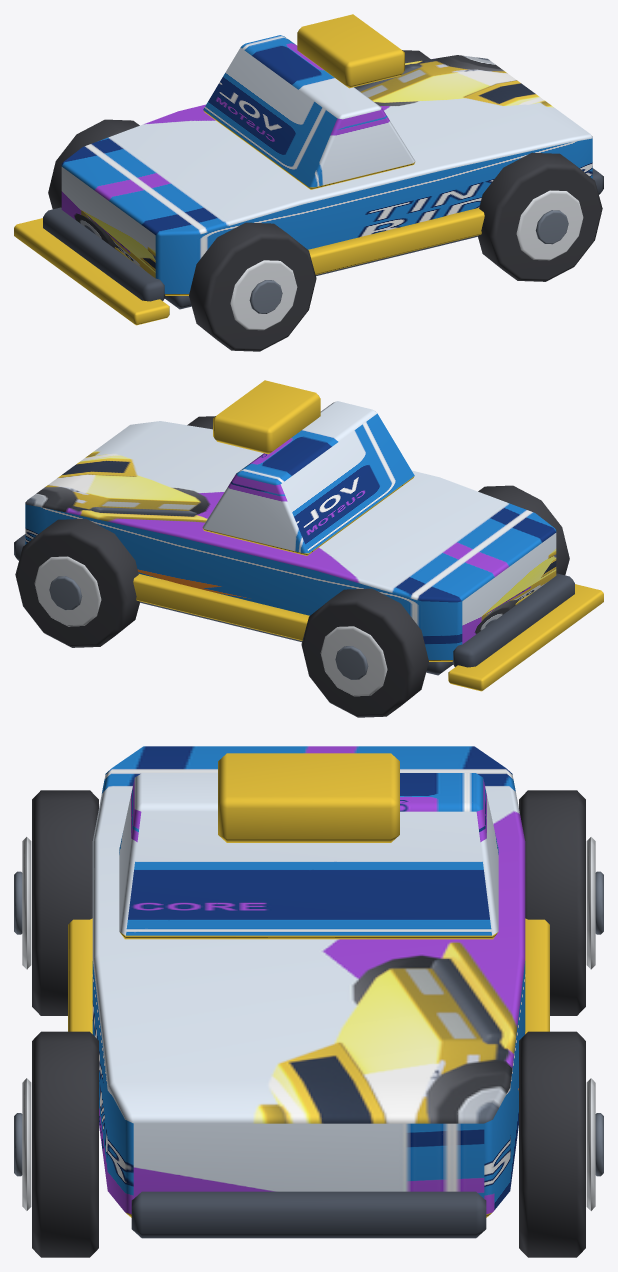
3 views of the same model, one above another, from view 1: azimuth 30°, elevation 25°; view 2: azimuth 150°, elevation 25°; view 3: azimuth 270°, elevation 25° (orthographic). The views are drawn at different scales.
Visible parts, largest first — view 1: FF-03_connected_shell, FF-03_cabin, Tire, Tire.002, custom equipment, custom side guard, custom chin, front bumper, Rim.002, Rim, Tire.001, Hub.002 (+2 smaller); view 2: FF-03_connected_shell, FF-03_cabin, Tire.001, Tire.003, custom equipment, custom side guard.001, custom chin, front bumper, Rim.003, Rim.001, Tire, Hub.003 (+2 smaller); view 3: FF-03_connected_shell, FF-03_cabin, rear bumper, custom equipment, Tire.002, Tire.003, Tire, Tire.001, custom side guard, custom side guard.001, Rim.002, Rim.003 (+2 smaller).
Part boxes in pixels (x1=…): FF-03_connected_shell: x1=61, y1=55, x2=592, y2=295; FF-03_cabin: x1=203, y1=35, x2=415, y2=189; Tire: x1=189, y1=222, x2=316, y2=351; Tire.002: x1=477, y1=152, x2=602, y2=281; custom equipment: x1=297, y1=14, x2=404, y2=88; custom side guard: x1=308, y1=208, x2=484, y2=274; custom chin: x1=14, y1=218, x2=169, y2=325; front bumper: x1=43, y1=207, x2=165, y2=301; Rim.002: x1=516, y1=190, x2=583, y2=260; Rim: x1=230, y1=260, x2=297, y2=330; Tire.001: x1=48, y1=119, x2=139, y2=209; Hub.002: x1=535, y1=210, x2=568, y2=244; FF-03_connected_shell: x1=25, y1=421, x2=556, y2=661; FF-03_cabin: x1=202, y1=401, x2=414, y2=555; Tire.001: x1=301, y1=588, x2=428, y2=717; Tire.003: x1=15, y1=518, x2=140, y2=647; custom equipment: x1=213, y1=380, x2=320, y2=454; custom side guard.001: x1=133, y1=574, x2=309, y2=640; custom chin: x1=448, y1=584, x2=603, y2=691; front bumper: x1=452, y1=573, x2=574, y2=667; Rim.003: x1=34, y1=556, x2=101, y2=626; Rim.001: x1=320, y1=626, x2=387, y2=696; Tire: x1=478, y1=485, x2=569, y2=575; Hub.003: x1=49, y1=576, x2=82, y2=610; FF-03_connected_shell: x1=92, y1=746, x2=525, y2=1217; FF-03_cabin: x1=119, y1=773, x2=498, y2=939; rear bumper: x1=131, y1=1191, x2=486, y2=1238; custom equipment: x1=218, y1=753, x2=399, y2=842; Tire.002: x1=32, y1=1031, x2=98, y2=1257; Tire.003: x1=519, y1=1031, x2=585, y2=1257; Tire: x1=32, y1=790, x2=98, y2=1015; Tire.001: x1=519, y1=790, x2=585, y2=1015; custom side guard: x1=68, y1=918, x2=92, y2=1033; custom side guard.001: x1=525, y1=918, x2=549, y2=1033; Rim.002: x1=22, y1=1078, x2=31, y2=1210; Rim.003: x1=586, y1=1078, x2=595, y2=1210.
Size of the model in its own units: 373 by 160 by 229.
